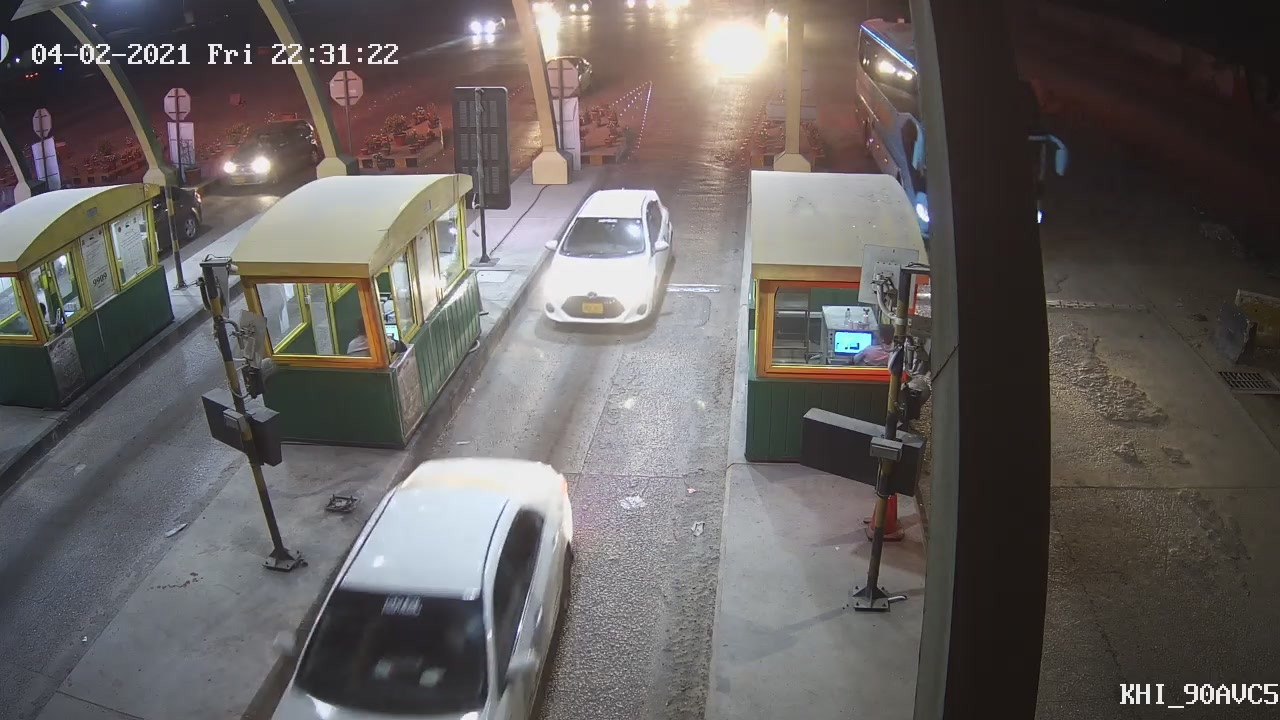F1: (539, 182, 673, 334)
